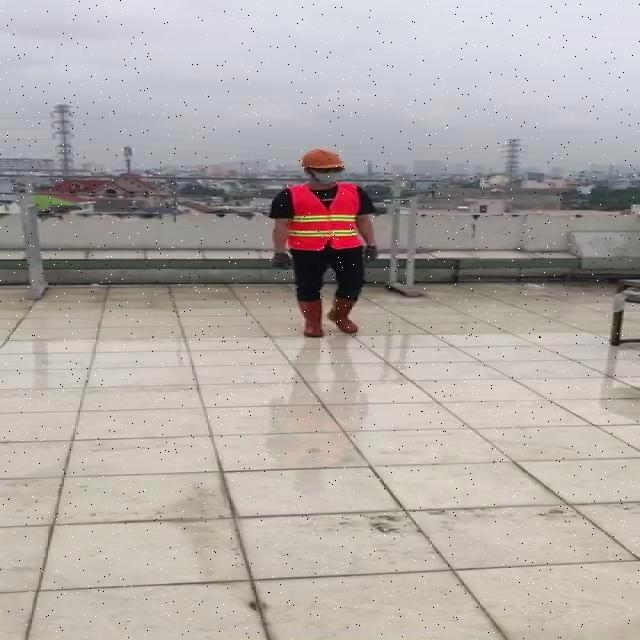Hard_hat: (297, 145, 349, 175)
Vest: (281, 183, 360, 254)
